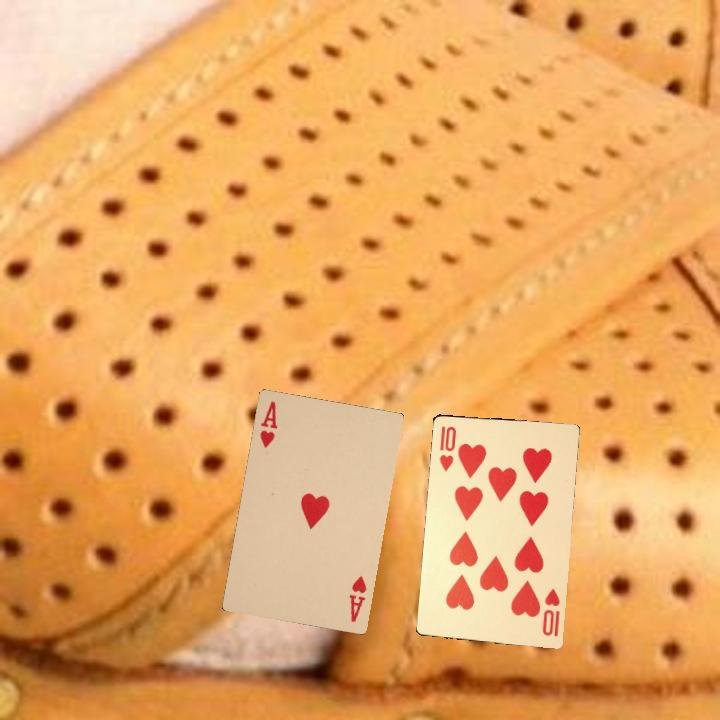10h: (538, 585, 562, 639), (435, 422, 459, 474)
Ah: (345, 571, 369, 625), (256, 397, 280, 450)
